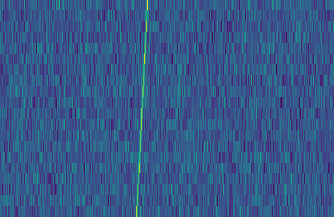signal: (132, 0, 152, 217)
